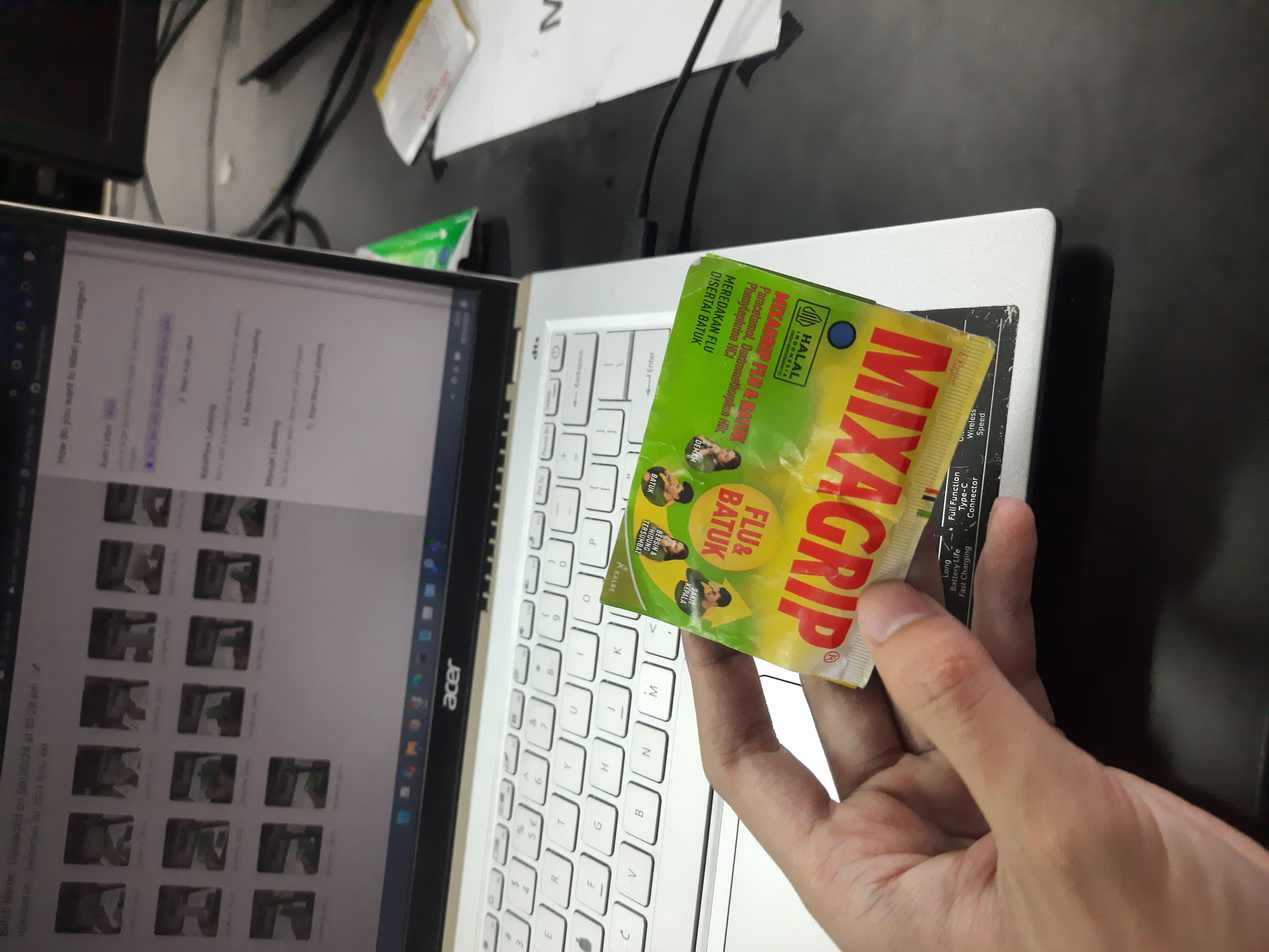Mixagrip Flu dan Batuk: (353, 450, 932, 746)
